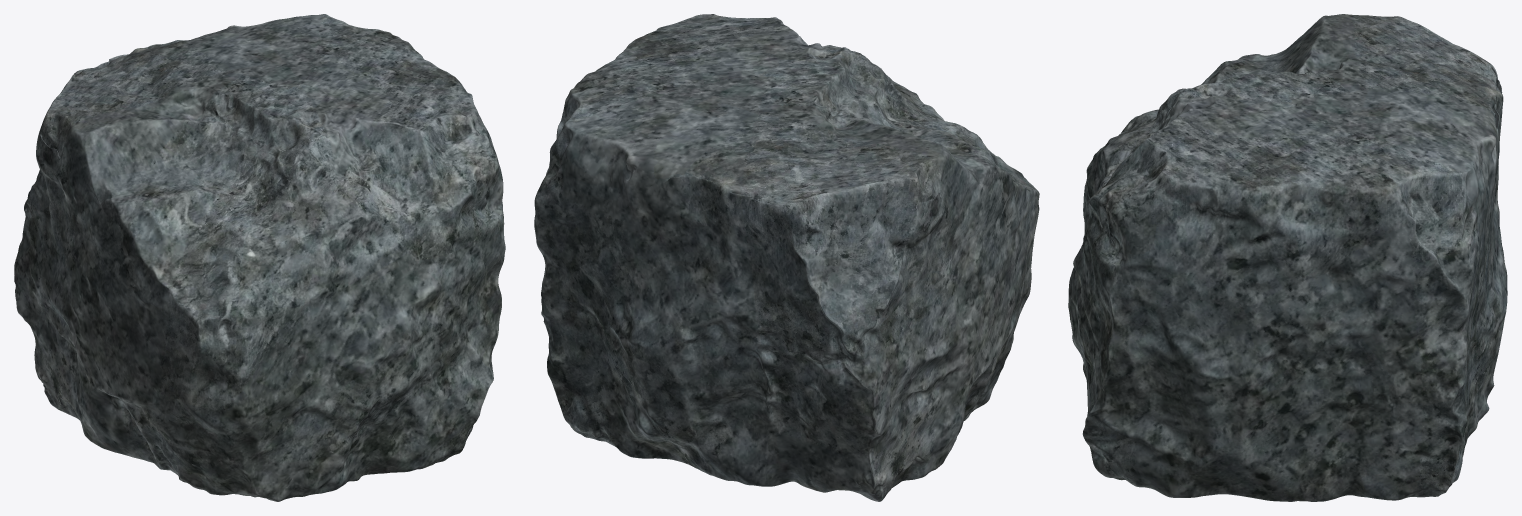
File: stone.glb
3 renders of one model, left to right at view 1: azimuth 30°, elevation 25°; view 2: azimuth 150°, elevation 25°; view 3: azimuth 270°, elevation 25°, orthographic. The views are drawn at different scales.
Parts seen in each view (by area): view 1: Mesh_0; view 2: Mesh_0; view 3: Mesh_0.
Boxes of the visible parts, x1,y1,x2,y2 form: Mesh_0: (14, 14, 505, 501); Mesh_0: (534, 14, 1039, 501); Mesh_0: (1068, 14, 1507, 501).
Bounding box in the file's own units: 0.1374 × 0.12 × 0.1375.
1 material, 1 textured.
